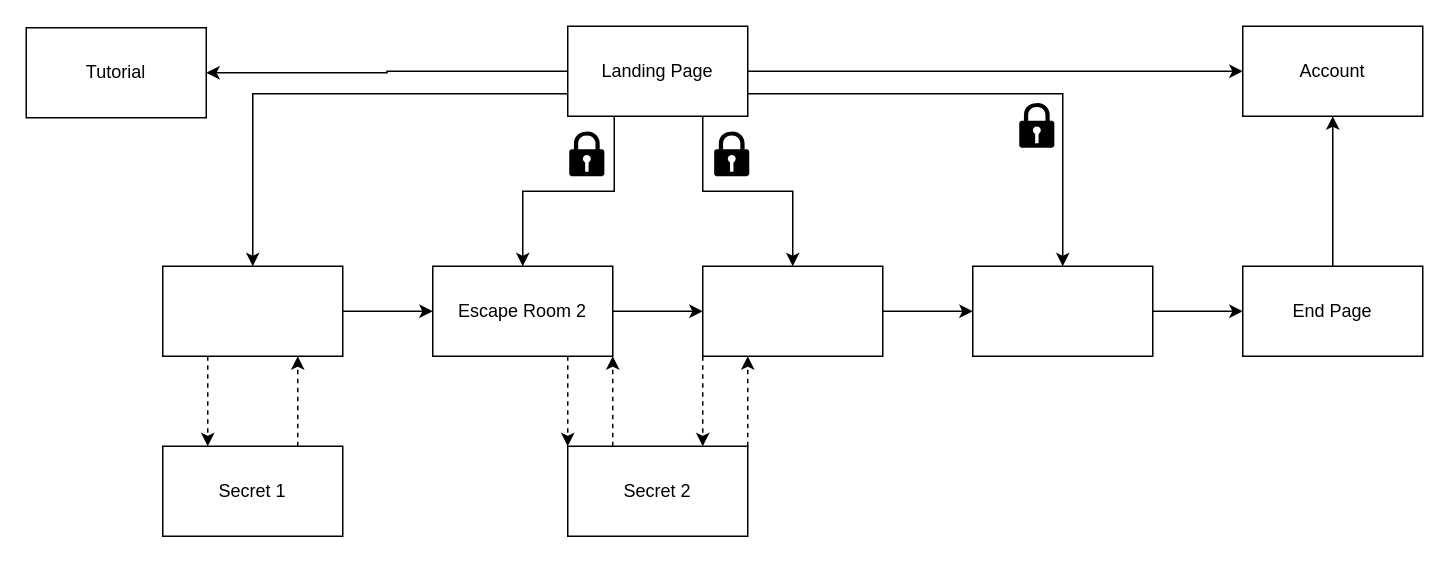
This 1449x563 diagram has some shape labels left out. The centre of each missing label's shape, as x and y in pixels:
"Escape Room 1" goes at (252,310).
"Escape Room 3" goes at (792,310).
"Escape Room 4" goes at (1062,310).
